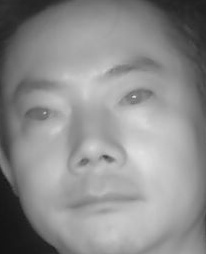eye: (21, 103, 61, 125), (114, 87, 154, 109)
mouth: (68, 187, 138, 221)
